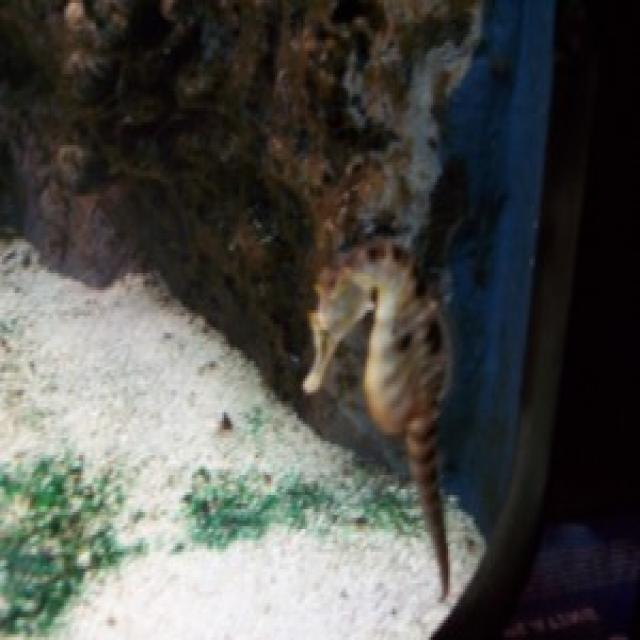Seahorse: (303, 242, 479, 613)
